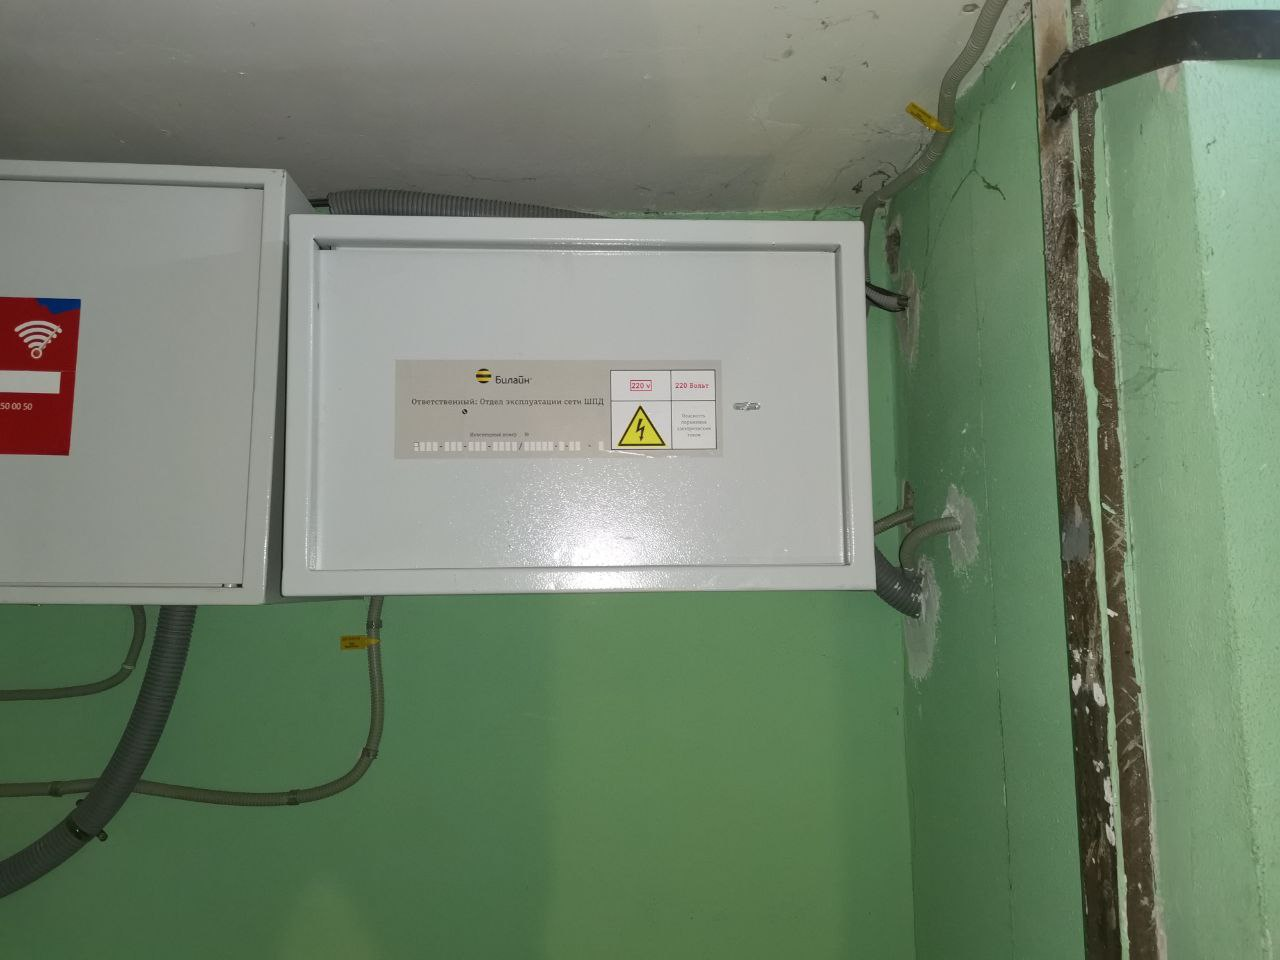shta-7m: (279, 203, 886, 607)
